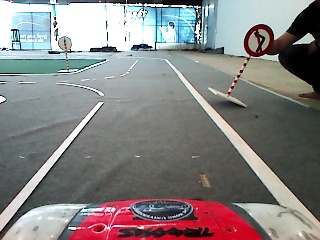ban: (242, 22, 276, 59)
